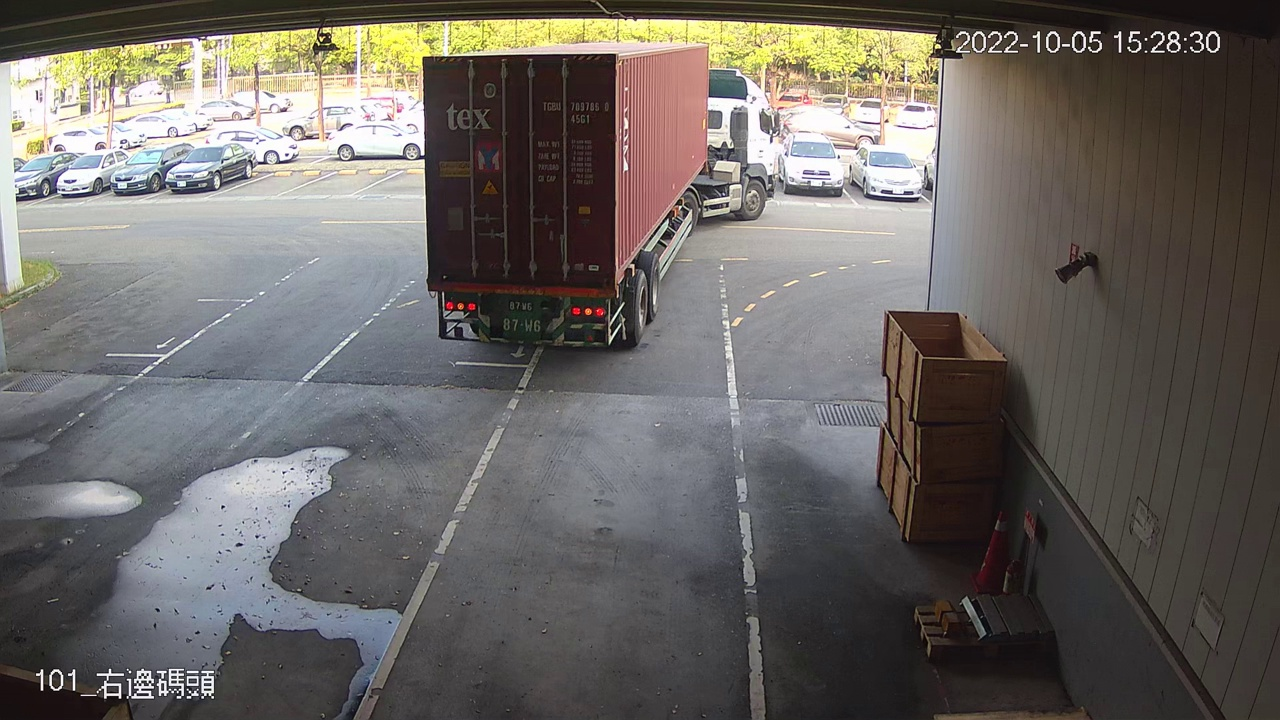container: (538, 97, 613, 128)
